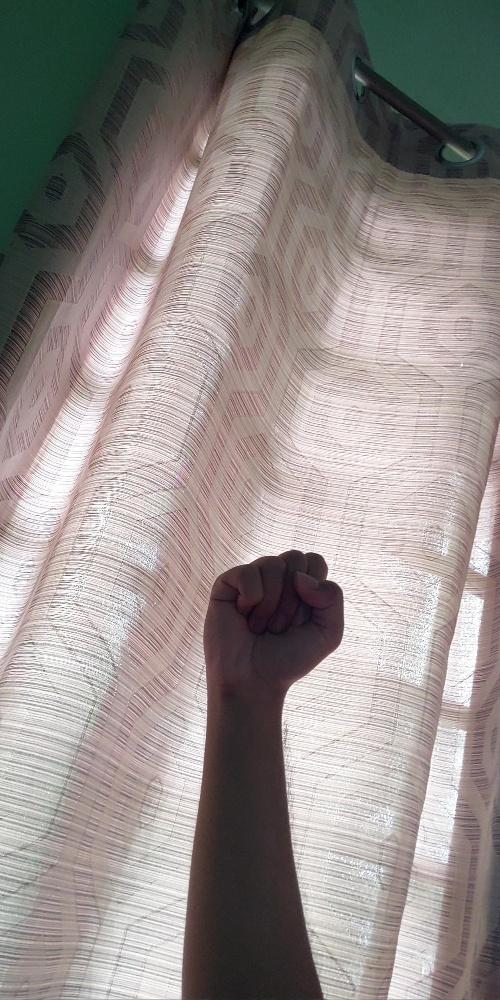s: (201, 547, 345, 691)
